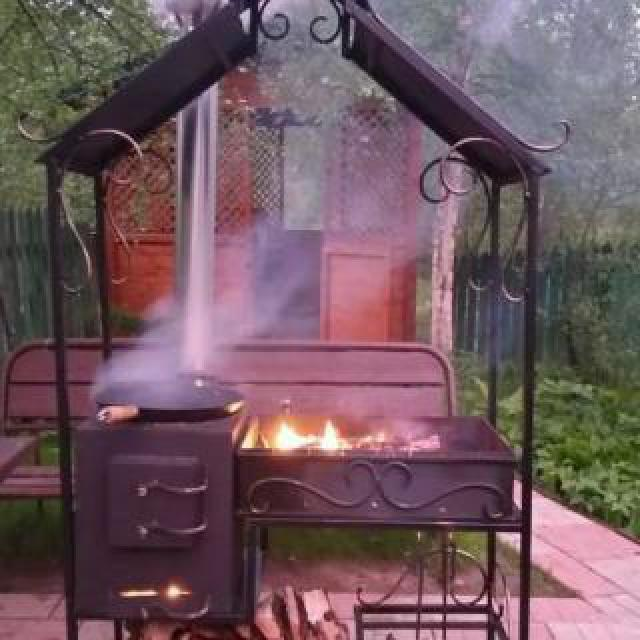Fire: (272, 412, 368, 458)
Smoke: (86, 264, 306, 406)
